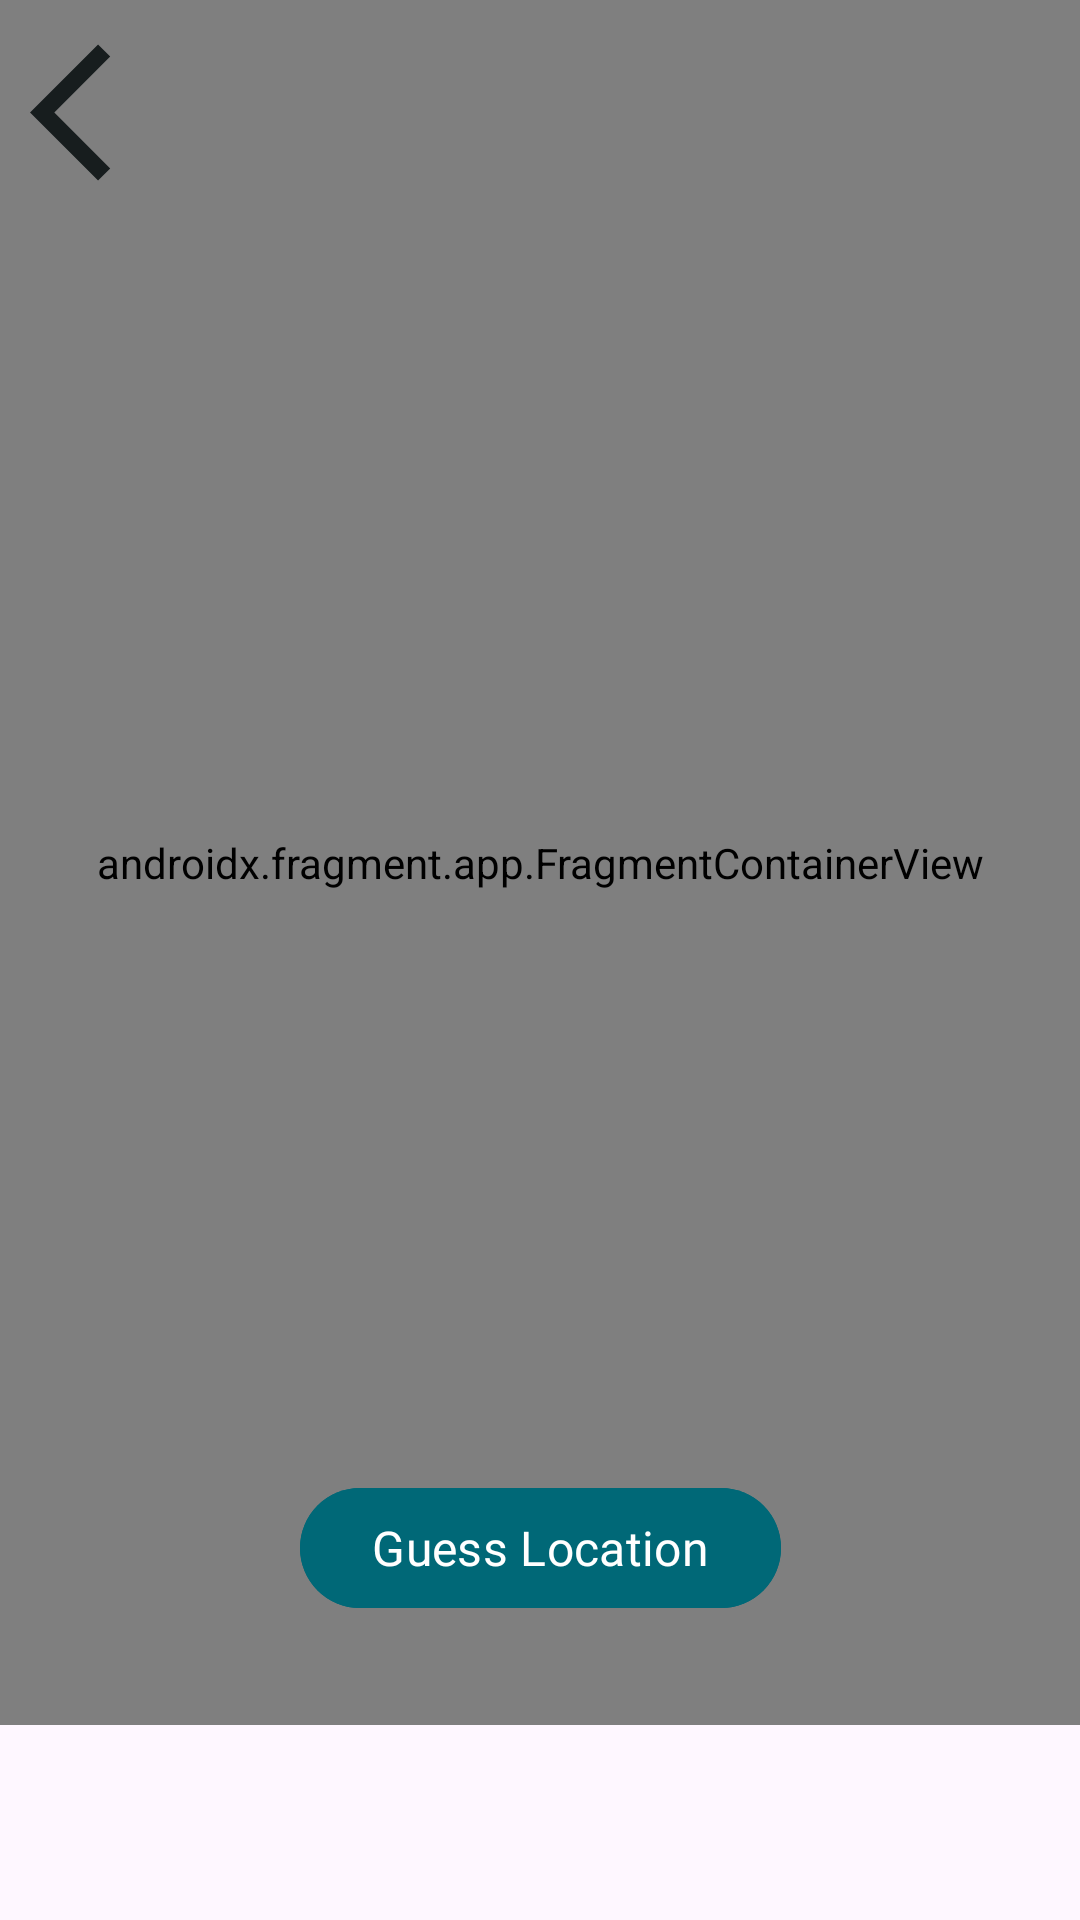

Named icons in this screenshot (1080×1920) and their centers, [x,y]:
arrow back: [70,112]
